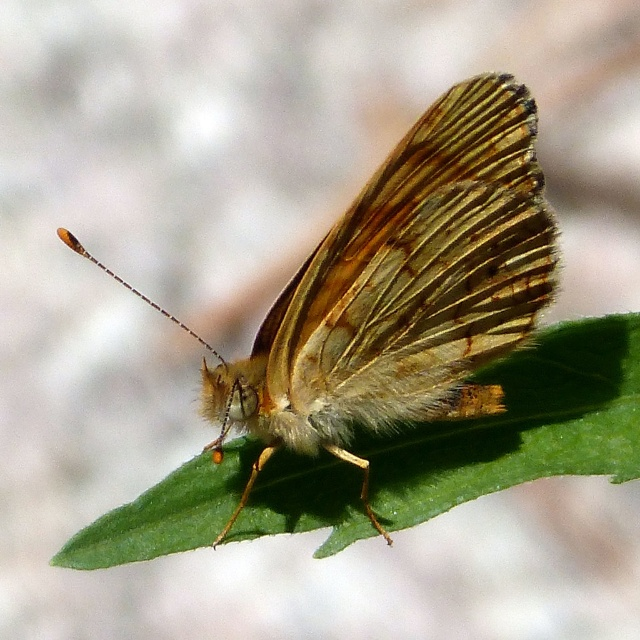Butterfly: (69, 79, 526, 605)
